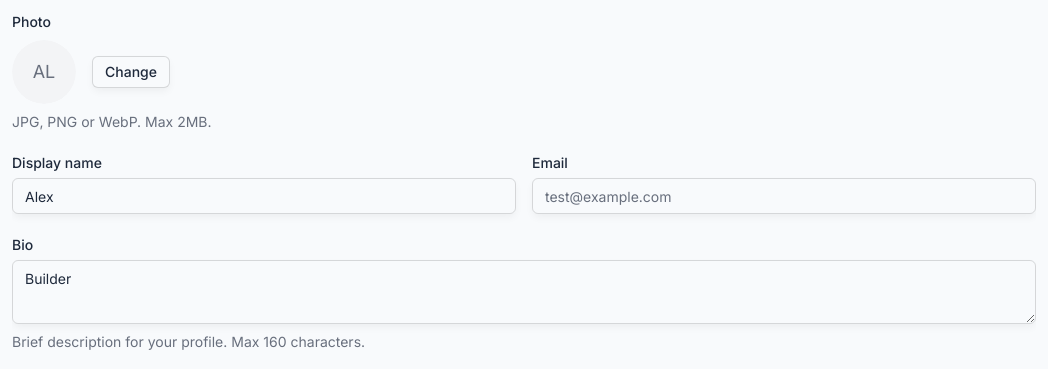
Test: ProfileSettingsForm › should blur-save display name with partial action and refresh
This screenshot has width=1048, height=369.
Replace the text in the field labelled "Display name" with "Jordan" at (264, 196), box [12,178,516,214]
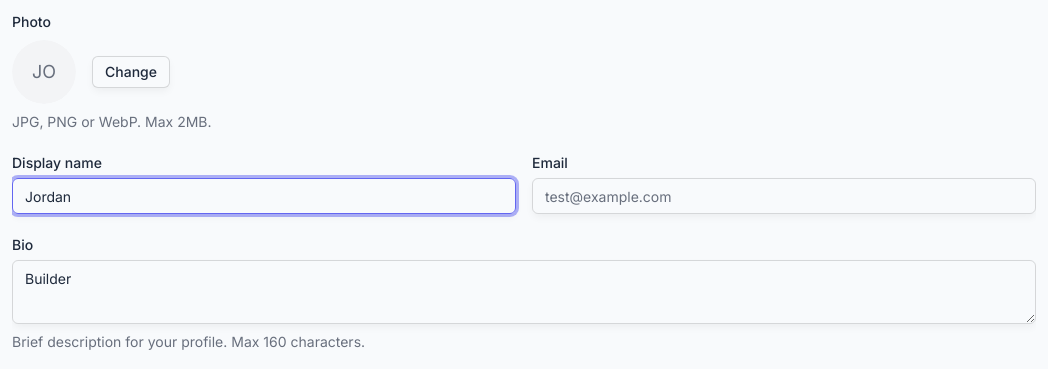
Press Tab
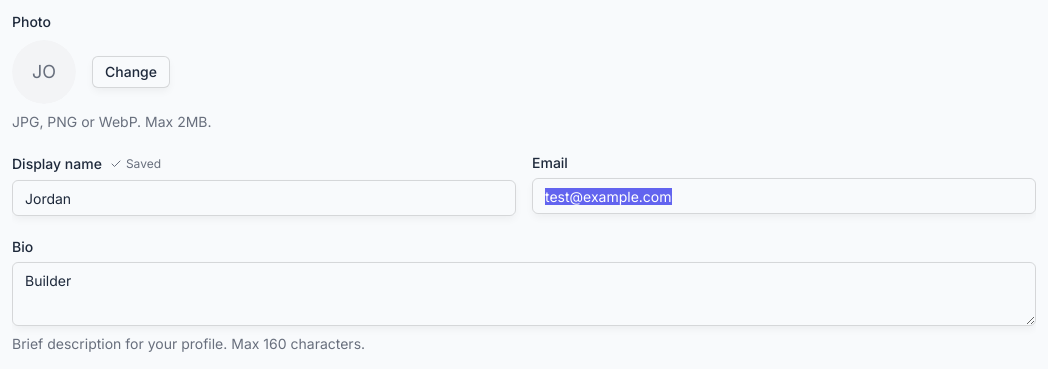
Expected: the text "Saved" is shown, [110,156,161,172]
